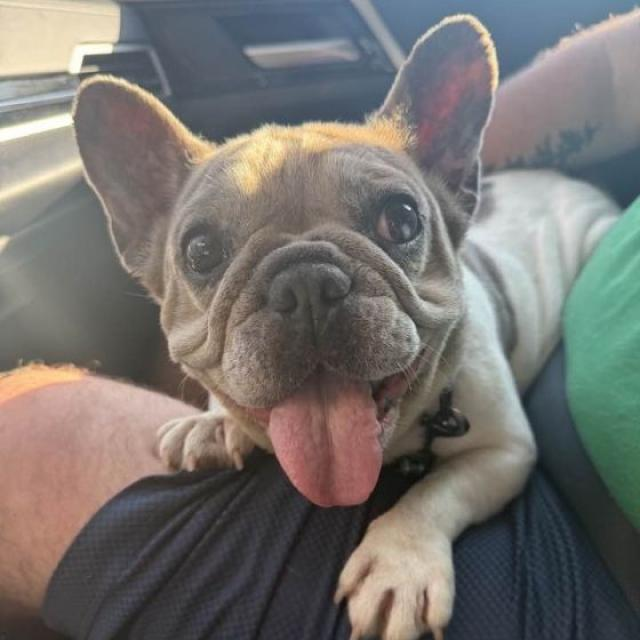french_bulldog_dog: (57, 0, 524, 522)
